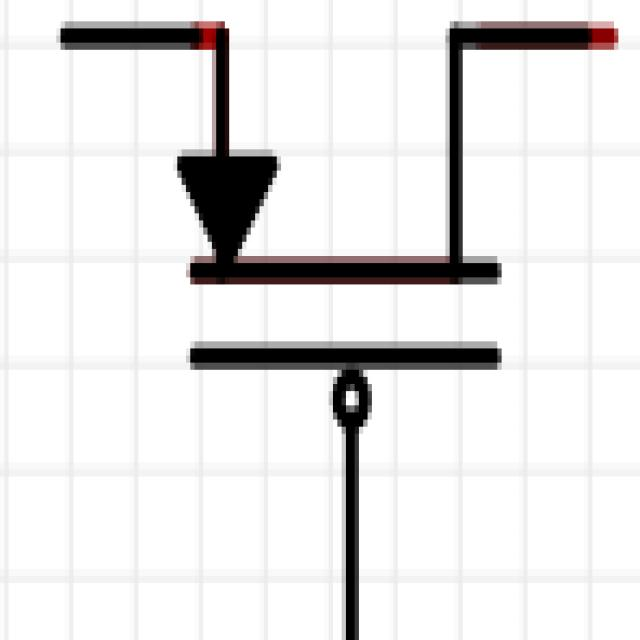pmos: (33, 6, 631, 594)
